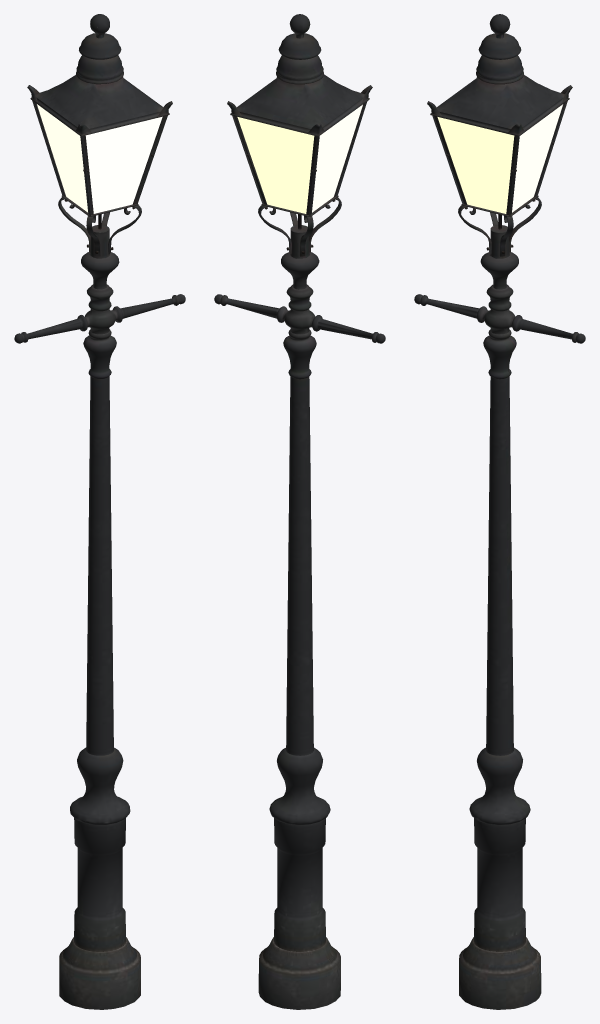
Rendered from lamp_classic.glb.
3 renders of one model, left to right at view 1: azimuth 30°, elevation 25°; view 2: azimuth 150°, elevation 25°; view 3: azimuth 330°, elevation 25°, orthographic.
Parts seen in each view (by area): view 1: street_lamp_01; view 2: street_lamp_01; view 3: street_lamp_01.
Boxes of the visible parts, x1,y1,x2,y2 form: street_lamp_01: [14, 14, 185, 1009]; street_lamp_01: [214, 14, 385, 1009]; street_lamp_01: [414, 14, 585, 1009].
Bounding box in the file's own units: 0.8093 × 4.45 × 0.4436.
Materials: 3 (1 with a texture image).
